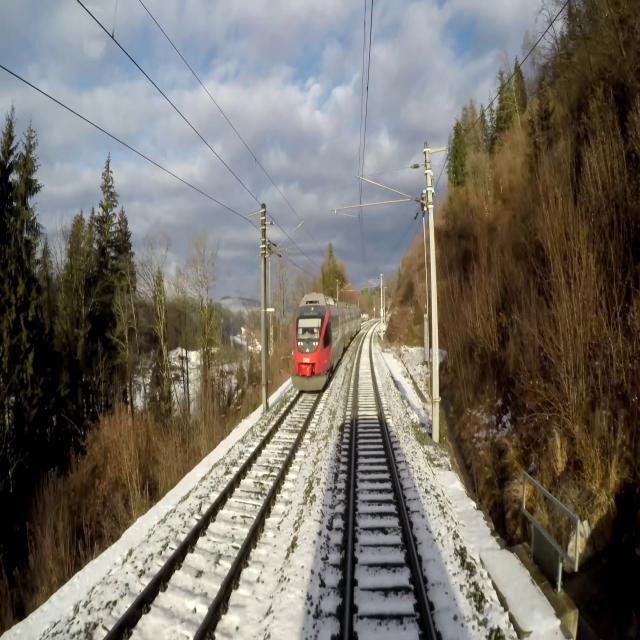rail-track: (109, 391, 317, 639), (350, 329, 432, 639)
